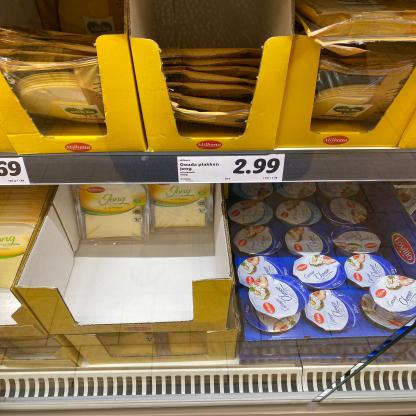prtg: (179, 156, 286, 184), (1, 159, 32, 187)
